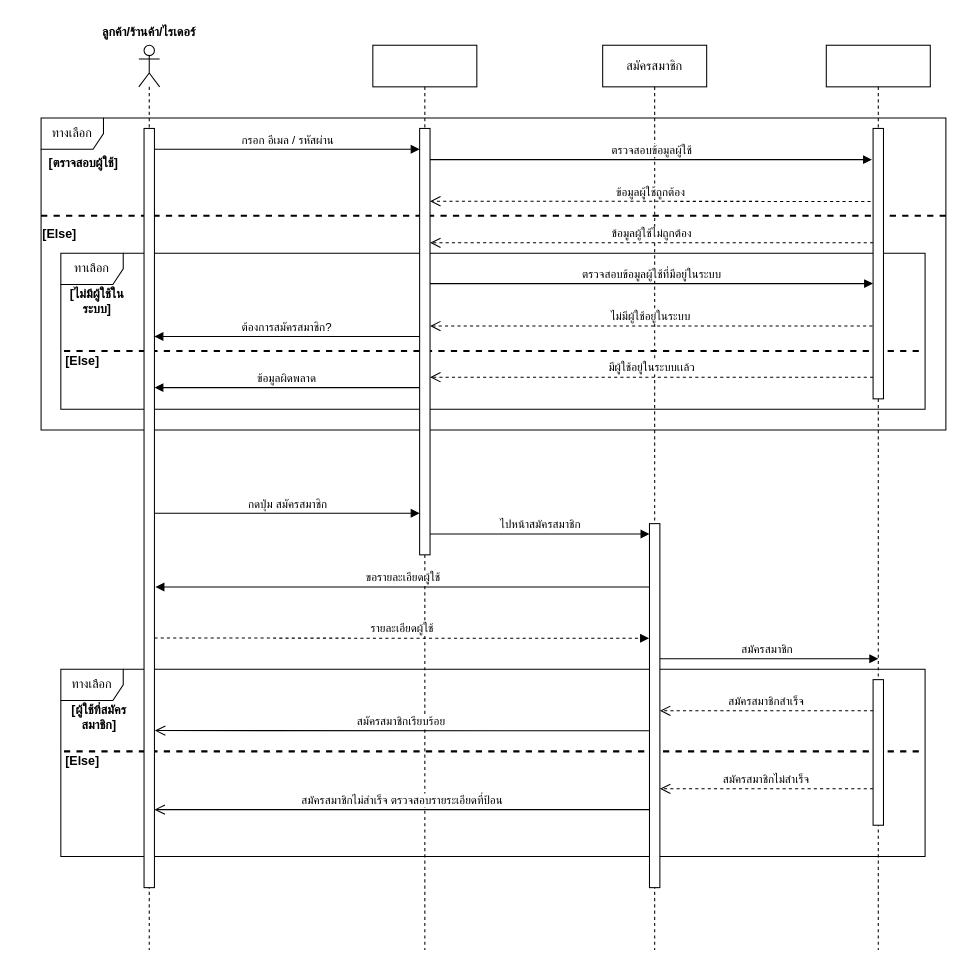
Image size: 964x968. Some labels were removed from this diagram. The box of each missing label's shape, as (x1, y1, x2, y2) in pixels:
ดาต้าเบส: (825, 44, 930, 950)
เข้าสู่ระบบ: (372, 44, 477, 950)
